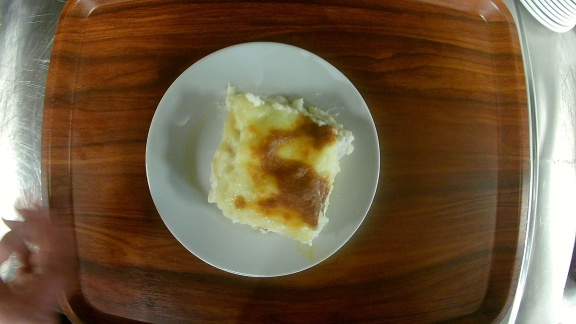firinmakarna: (143, 41, 381, 278)
